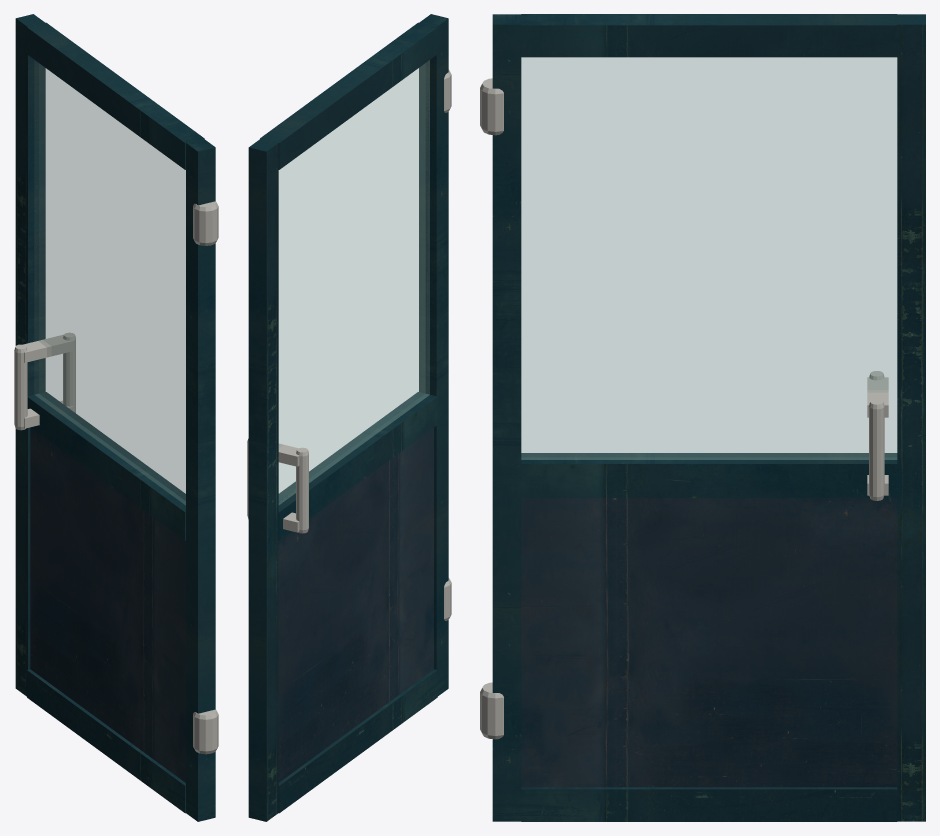
The model's file is hinged_leaf.gltf.
3 renders of one model, left to right at view 1: azimuth 30°, elevation 25°; view 2: azimuth 150°, elevation 25°; view 3: azimuth 270°, elevation 25°, orthographic. The views are drawn at different scales.
Parts seen in each view (by area): view 1: hinged_leaf; view 2: hinged_leaf; view 3: hinged_leaf.
Boxes of the visible parts, left/top/right/bottom form: hinged_leaf: left=14, top=14, right=218, bottom=821; hinged_leaf: left=247, top=14, right=451, bottom=821; hinged_leaf: left=480, top=14, right=925, bottom=821.
Bounding box in the file's own units: 0.21 × 2.24 × 1.14.
4 materials, 2 textured.
